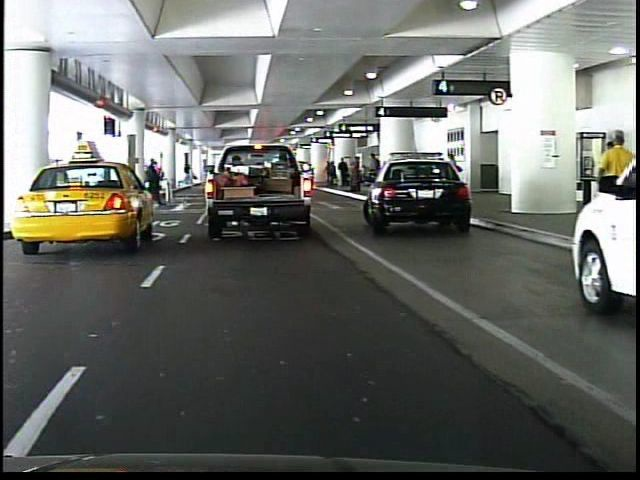person: (591, 123, 630, 250), (135, 154, 160, 215), (213, 148, 236, 202)
